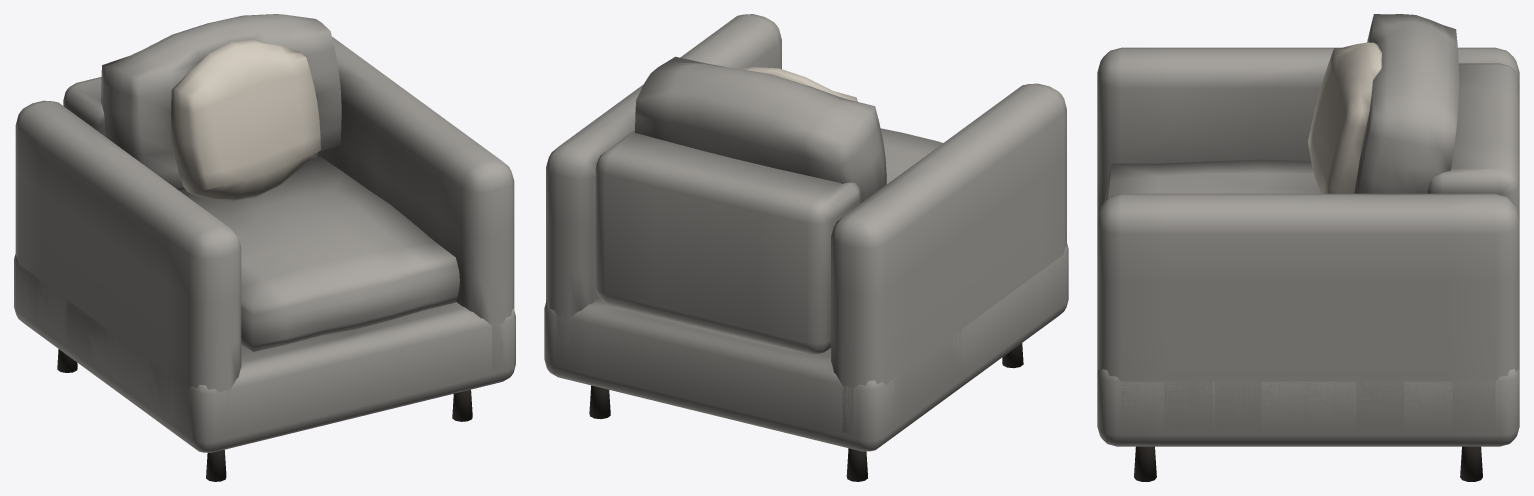
The model's file is fauteuil.glb.
3 renders of one model, left to right at view 1: azimuth 30°, elevation 25°; view 2: azimuth 150°, elevation 25°; view 3: azimuth 270°, elevation 25°, orthographic. The views are drawn at different scales.
Parts seen in each view (by area): view 1: socle, assises, coussins, dossiers, pieds; view 2: socle, dossiers, assises, pieds, coussins; view 3: socle, dossiers, coussins, assises, pieds.
Boxes of the visible parts, box(x1,y1,x2,y2) form: socle: box(14, 36, 515, 452); assises: box(183, 156, 459, 351); coussins: box(171, 39, 320, 200); dossiers: box(101, 14, 341, 193); pieds: box(57, 349, 472, 481); socle: box(544, 14, 1068, 451); dossiers: box(635, 56, 886, 202); assises: box(880, 128, 942, 184); pieds: box(589, 343, 1023, 481); coussins: box(740, 67, 857, 101); socle: box(1097, 47, 1519, 446); dossiers: box(1354, 14, 1459, 193); coussins: box(1308, 42, 1381, 193); assises: box(1104, 159, 1320, 201); pieds: box(1134, 446, 1482, 481).
Bounding box in the file's own units: 0.85 × 0.8397 × 0.88.
